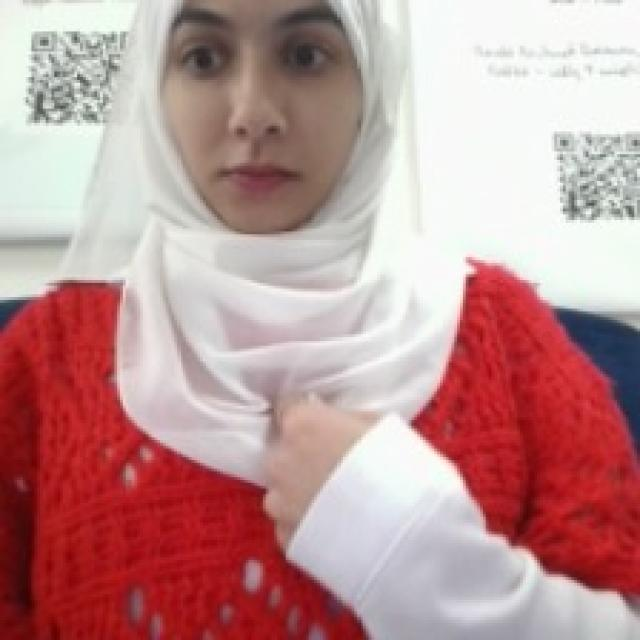me: (256, 382, 392, 560)
